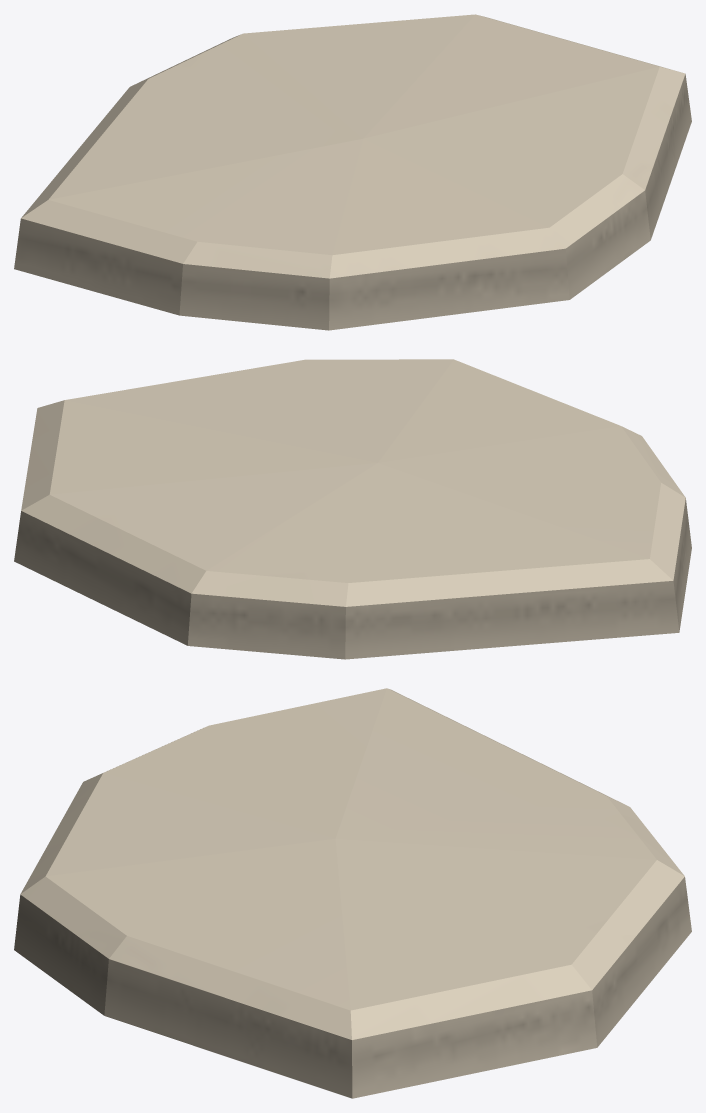
Rendered from stepping_stone_a.glb.
3 views of the same model, one above another, from view 1: azimuth 30°, elevation 25°; view 2: azimuth 150°, elevation 25°; view 3: azimuth 270°, elevation 25° (orthographic). The views are drawn at different scales.
Visible parts, largest first — view 1: stepping_stone_a; view 2: stepping_stone_a; view 3: stepping_stone_a.
Boxes of the visible parts, left/top/right/bottom form: stepping_stone_a: left=14, top=14, right=691, bottom=330; stepping_stone_a: left=14, top=359, right=691, bottom=659; stepping_stone_a: left=14, top=688, right=691, bottom=1098.
Bounding box in the file's own units: 0.5991 × 0.061 × 0.4803.
Materials: 1 (1 with a texture image).
